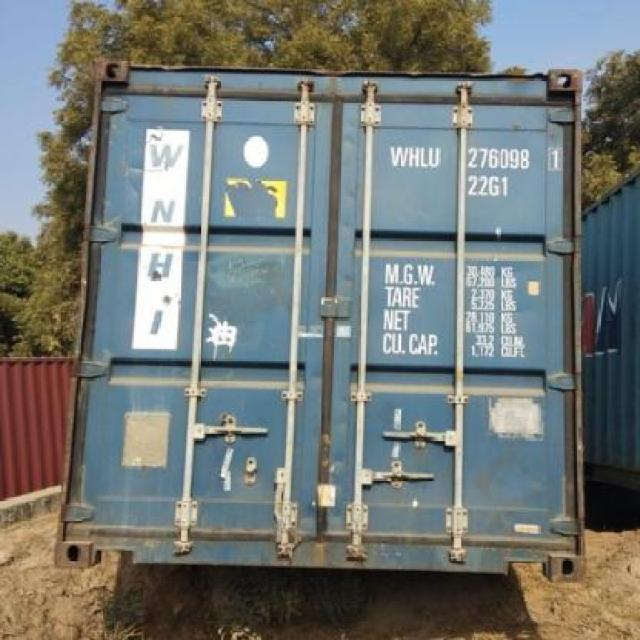ISO: (470, 174, 511, 197)
container_number: (386, 148, 564, 171)
